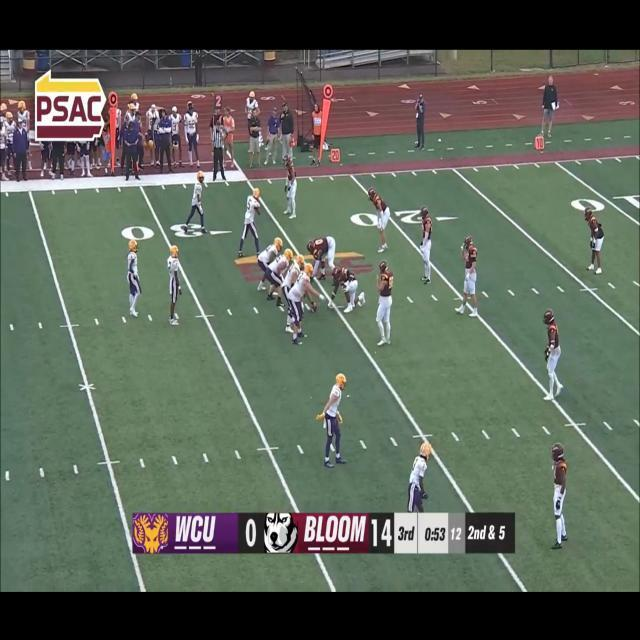football: (308, 300, 319, 314)
